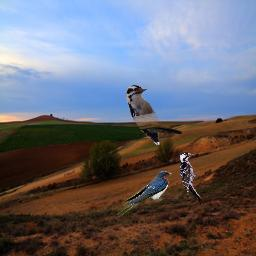Swallow: (117, 171, 172, 217)
Woodpecker: (126, 85, 182, 145), (179, 152, 202, 205)
